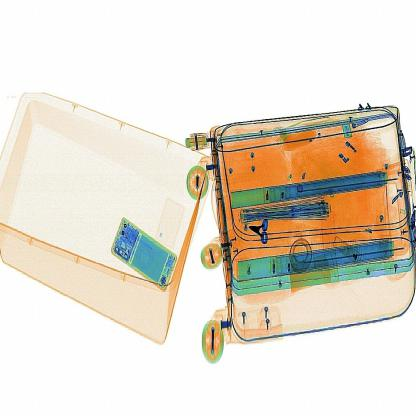gun: (244, 212, 277, 250)
